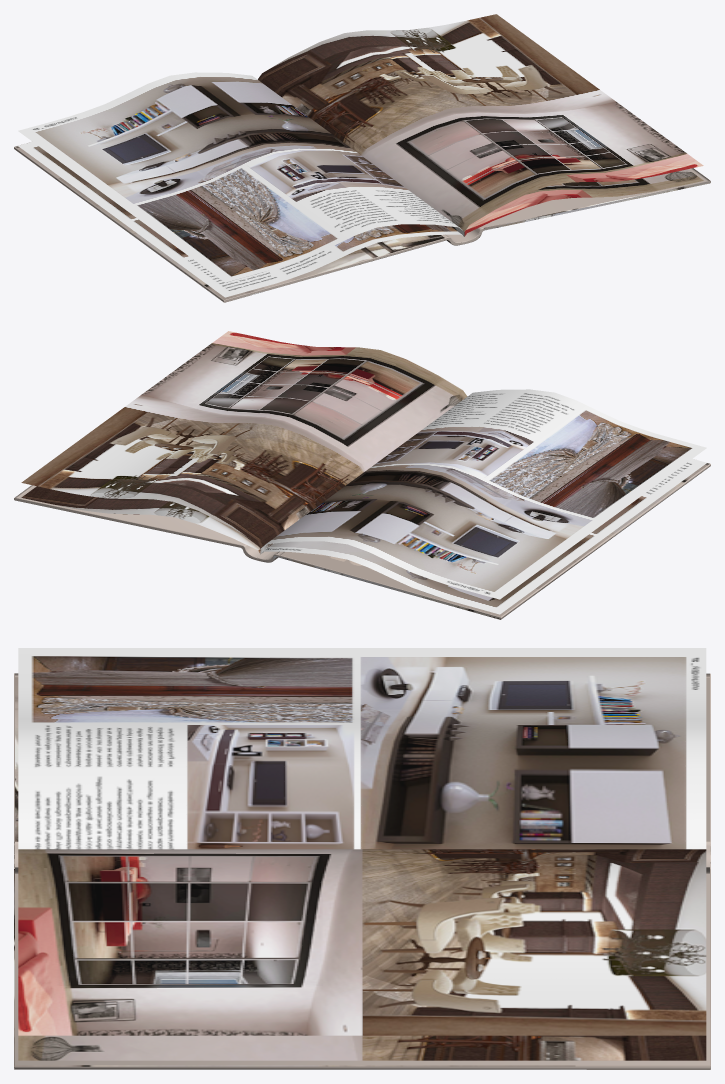
Rendered from Magazine.FBX.
3 views of the same model, one above another, from view 1: azimuth 30°, elevation 25°; view 2: azimuth 150°, elevation 25°; view 3: azimuth 270°, elevation 25° (orthographic). The views are drawn at different scales.
Visible parts, largest first — view 1: magazine; view 2: magazine; view 3: magazine.
Part boxes in pixels (left/top/right/bottom): magazine: left=14, top=14, right=710, bottom=302; magazine: left=14, top=331, right=710, bottom=619; magazine: left=14, top=648, right=710, bottom=1069.
Bounding box in the file's own units: 41.46 × 3.02 × 30.97.
Materials: 1 (1 with a texture image).
